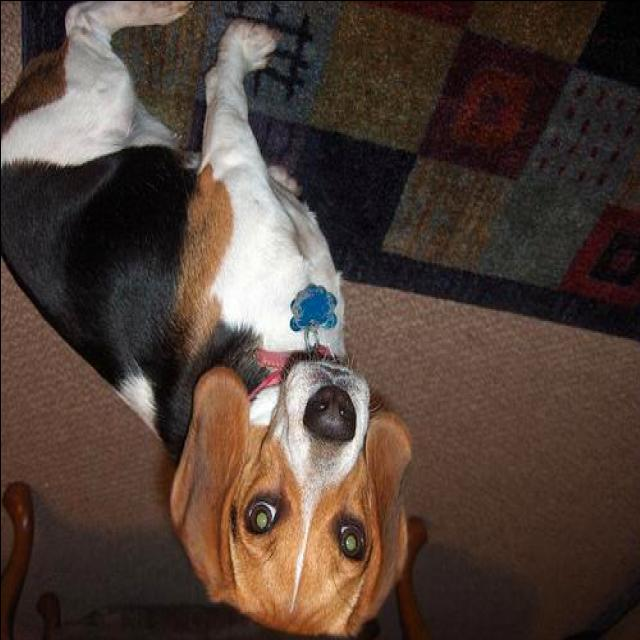beagle: (2, 1, 414, 636)
